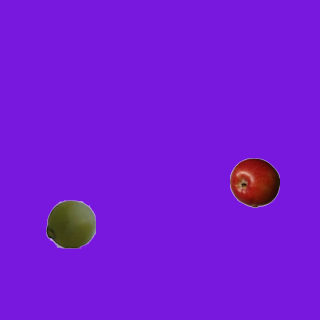Apple Braeburn: (229, 157, 279, 207)
Grape White 4: (45, 198, 95, 248)
